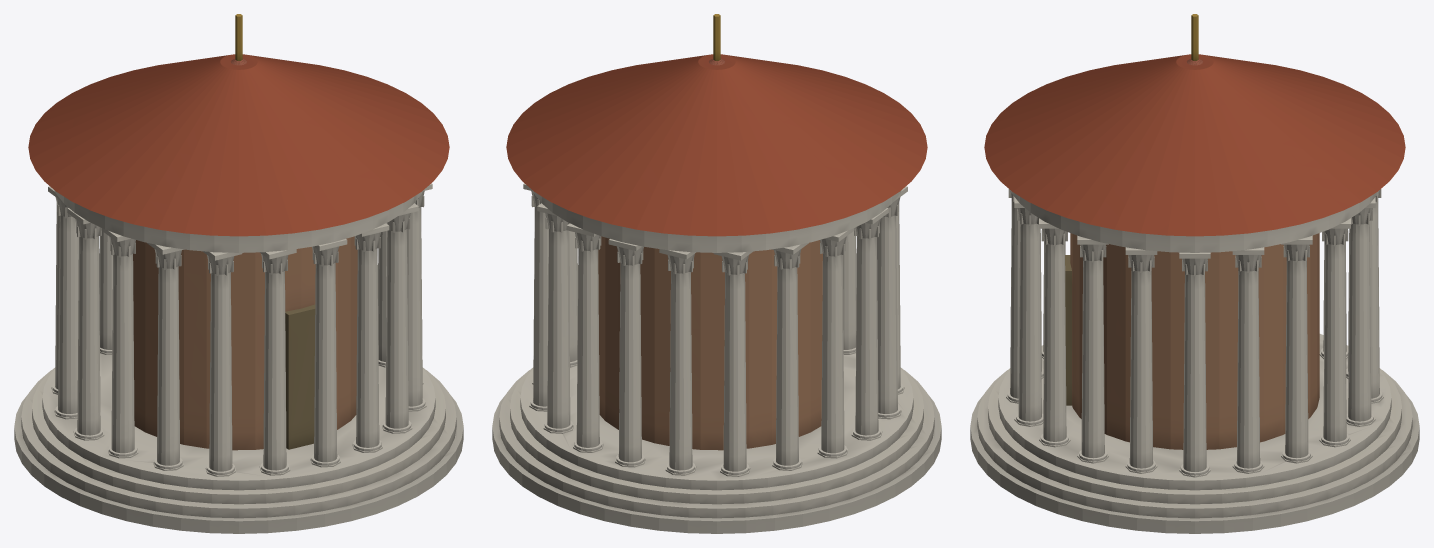
The model's file is temple-of-hercules-church.glb.
3 views of the same model, side by side, from view 1: azimuth 30°, elevation 25°; view 2: azimuth 150°, elevation 25°; view 3: azimuth 270°, elevation 25° (orthographic).
Parts seen in each view (by area): view 1: p1_columns, p2_roof, p0_base; view 2: p1_columns, p2_roof, p0_base; view 3: p1_columns, p2_roof, p0_base.
Boxes of the visible parts, box(x1,y1,x2,y2) form: p1_columns: box(48, 183, 432, 476); p2_roof: box(28, 14, 449, 252); p0_base: box(14, 353, 463, 533); p1_columns: box(523, 183, 907, 476); p2_roof: box(506, 14, 927, 252); p0_base: box(492, 353, 941, 533); p1_columns: box(1006, 189, 1383, 477); p2_roof: box(984, 14, 1405, 252); p0_base: box(970, 334, 1419, 533).
Bounding box in the file's own units: 19.2 × 19.98 × 19.2.
